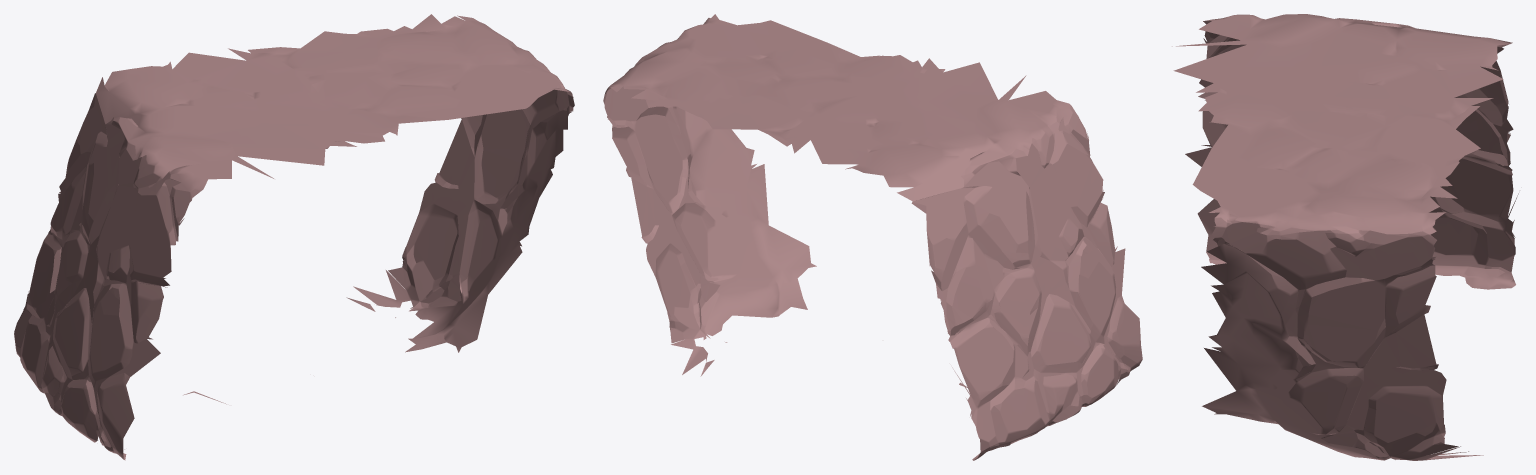
The model's file is canyon.fbx_PolyShape__3__002LODs.fbx.
The picture shows the model from 3 angles, left to right: view 1: azimuth 30°, elevation 25°; view 2: azimuth 150°, elevation 25°; view 3: azimuth 270°, elevation 25°; orthographic projection. The views are drawn at different scales.
Parts seen in each view (by area): view 1: PolyShape (3).002_LOD0; view 2: PolyShape (3).002_LOD0; view 3: PolyShape (3).002_LOD0.
Boxes of the visible parts, x1=… form: PolyShape (3).002_LOD0: x1=14, y1=14, x2=574, y2=460; PolyShape (3).002_LOD0: x1=603, y1=14, x2=1142, y2=460; PolyShape (3).002_LOD0: x1=1172, y1=14, x2=1518, y2=460.
Size of what is drawn, in the model's own units: 6553 by 3594 by 3820.
